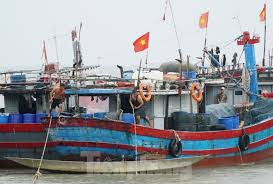tau_dansu: (56, 66, 273, 169)
